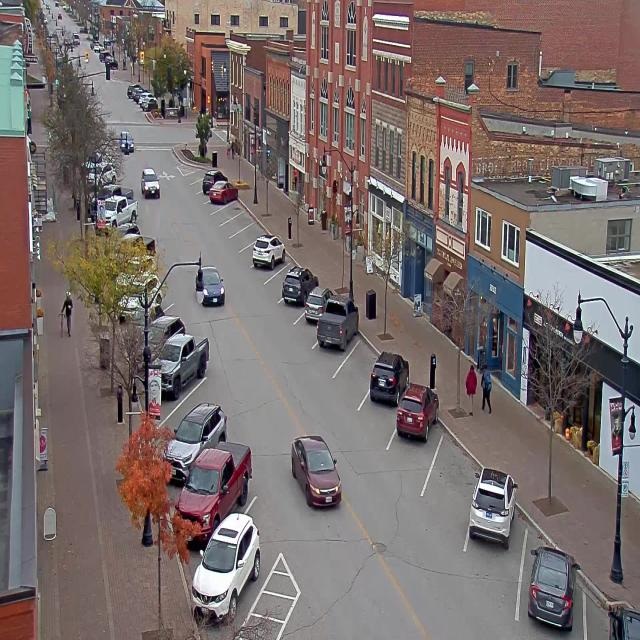available: (429, 432, 481, 510), (342, 332, 379, 390), (176, 368, 224, 409), (264, 265, 286, 297), (242, 217, 263, 245), (238, 243, 255, 270), (226, 195, 244, 218), (233, 206, 250, 230), (187, 169, 206, 183), (188, 178, 202, 196)
occupied: (192, 510, 261, 625), (185, 434, 254, 514), (163, 400, 227, 484), (527, 544, 579, 631), (468, 467, 518, 548), (153, 331, 210, 398), (390, 383, 443, 446), (591, 588, 639, 639), (316, 296, 358, 352), (368, 349, 409, 405), (282, 264, 318, 305), (252, 232, 285, 269), (301, 288, 324, 327), (209, 179, 238, 204), (202, 170, 220, 191)
